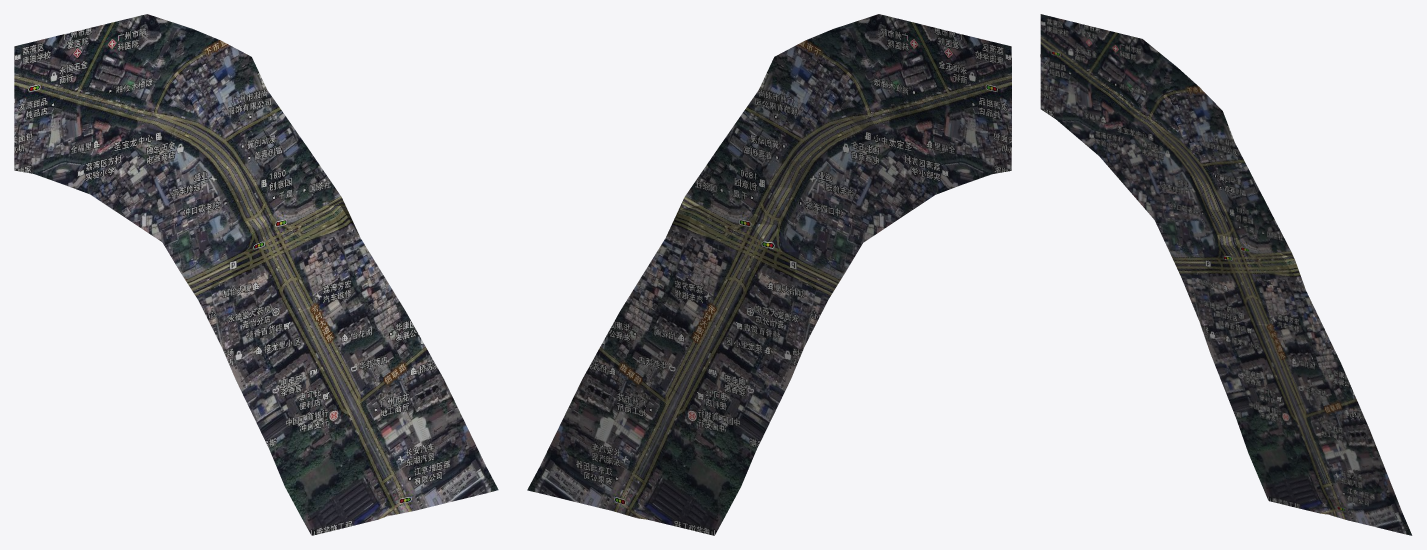
The picture shows the model from 3 angles, left to right: view 1: azimuth 30°, elevation 25°; view 2: azimuth 150°, elevation 25°; view 3: azimuth 330°, elevation 25°; orthographic projection. The views are drawn at different scales.
Parts seen in each view (by area): view 1: 0_3_0_2_0; view 2: 0_3_0_2_0; view 3: 0_3_0_2_0.
Part boxes in pixels (left/top/right/bottom): 0_3_0_2_0: left=14, top=14, right=498, bottom=535; 0_3_0_2_0: left=527, top=14, right=1011, bottom=535; 0_3_0_2_0: left=1040, top=14, right=1412, bottom=535.
Size of the model in its own units: 877 by 972 by 18.8.
1 material, 1 textured.
